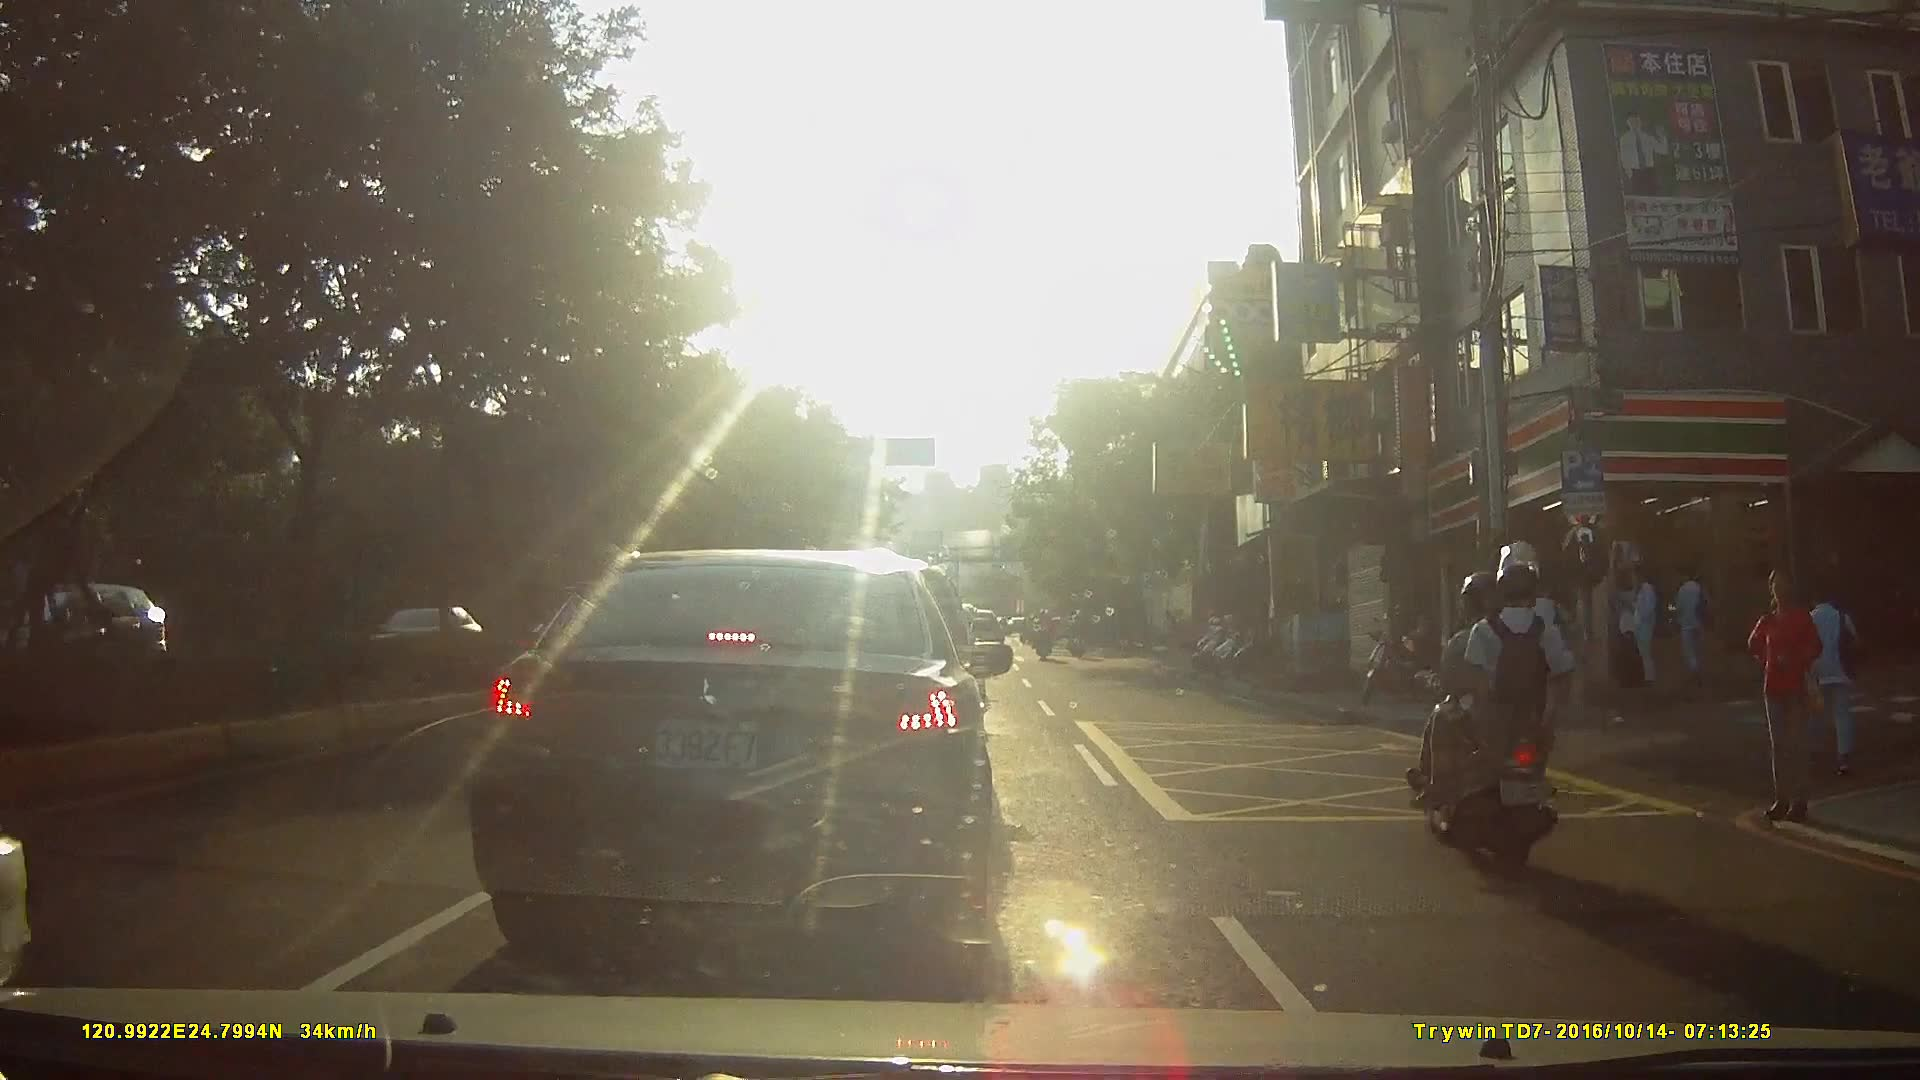pedestrian: (1749, 567, 1824, 822), (1616, 565, 1659, 689), (1676, 565, 1719, 680), (1609, 567, 1636, 697)
rider: (1414, 538, 1583, 877), (1066, 612, 1089, 662), (1036, 606, 1056, 664)
vehicle: (463, 537, 1042, 969), (27, 579, 174, 688)
